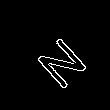N_NW: (24, 23, 86, 87)
